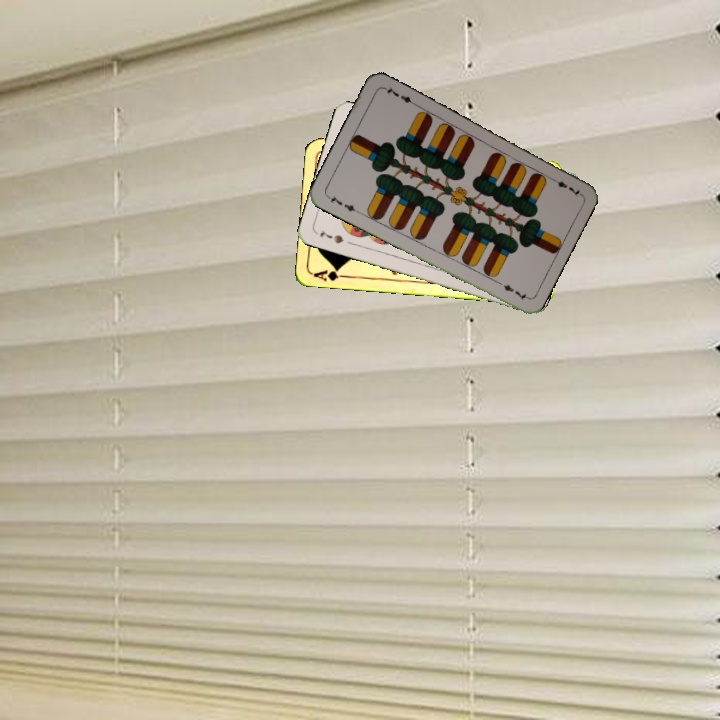E7: (545, 174, 583, 199), (323, 191, 361, 215)
GA: (310, 264, 350, 284)
S7: (316, 227, 346, 246)
